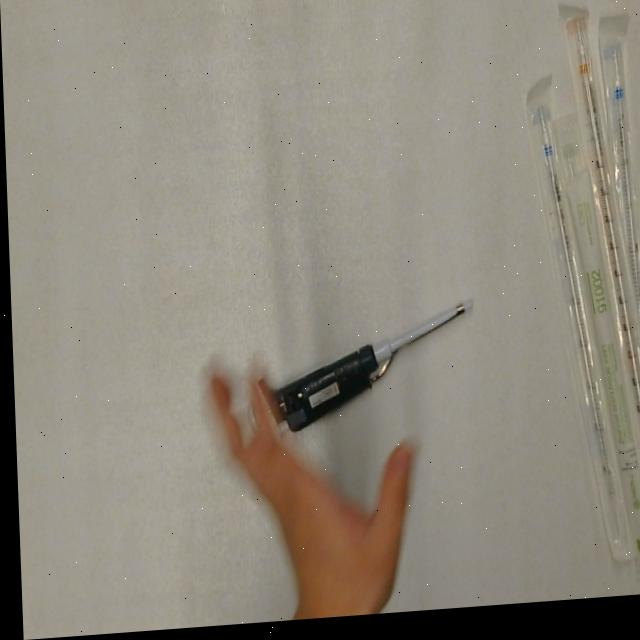Serelogical Pipet 10 mL - Sealed: (559, 14, 640, 528)
Serelogical Pipet 2 mL - Sealed: (551, 111, 640, 602)
Serelogical Pipet 5 mL - Sealed: (523, 79, 632, 579), (597, 20, 640, 402)
Single Channel Pipettor: (239, 297, 480, 447)
